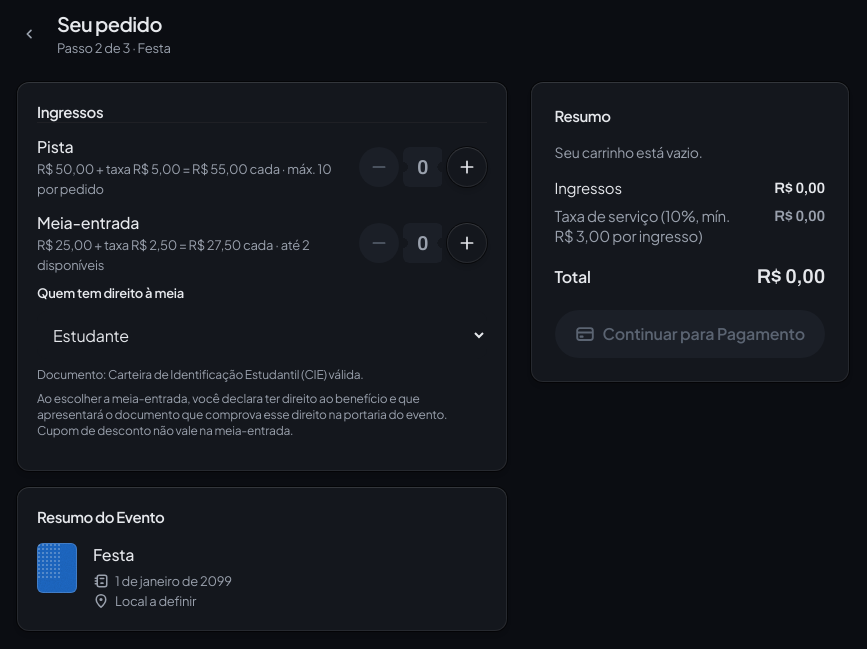
Scenario: Checkout: meia-entrada › categorias vindas da RPC: estaduais e idoso aparecem e o documento da escolhida é mostrado
Expected: the button named "Adicionar um Pista (meia-entrada)" is shown, [447,223,487,263]
Expected: the text "Carteira de Identificação Estudantil" is shown, [108,367,360,382]
Select "Professor ou educador" in the dropdown labelled "Quem tem direito à meia" at {"x": 262, "y": 335}, box [37,311,487,359]
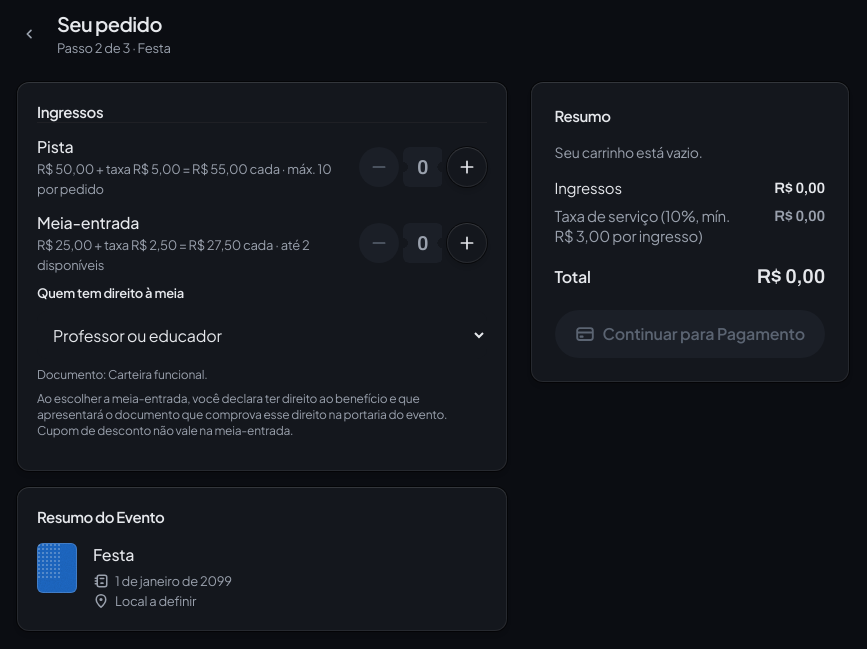
Now the text "Documento: Carteira funcional." is shown, box [37,367,207,382]
